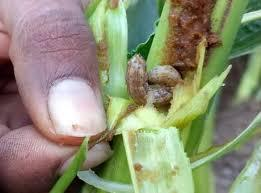fallarmy_worm: (126, 50, 179, 107)
